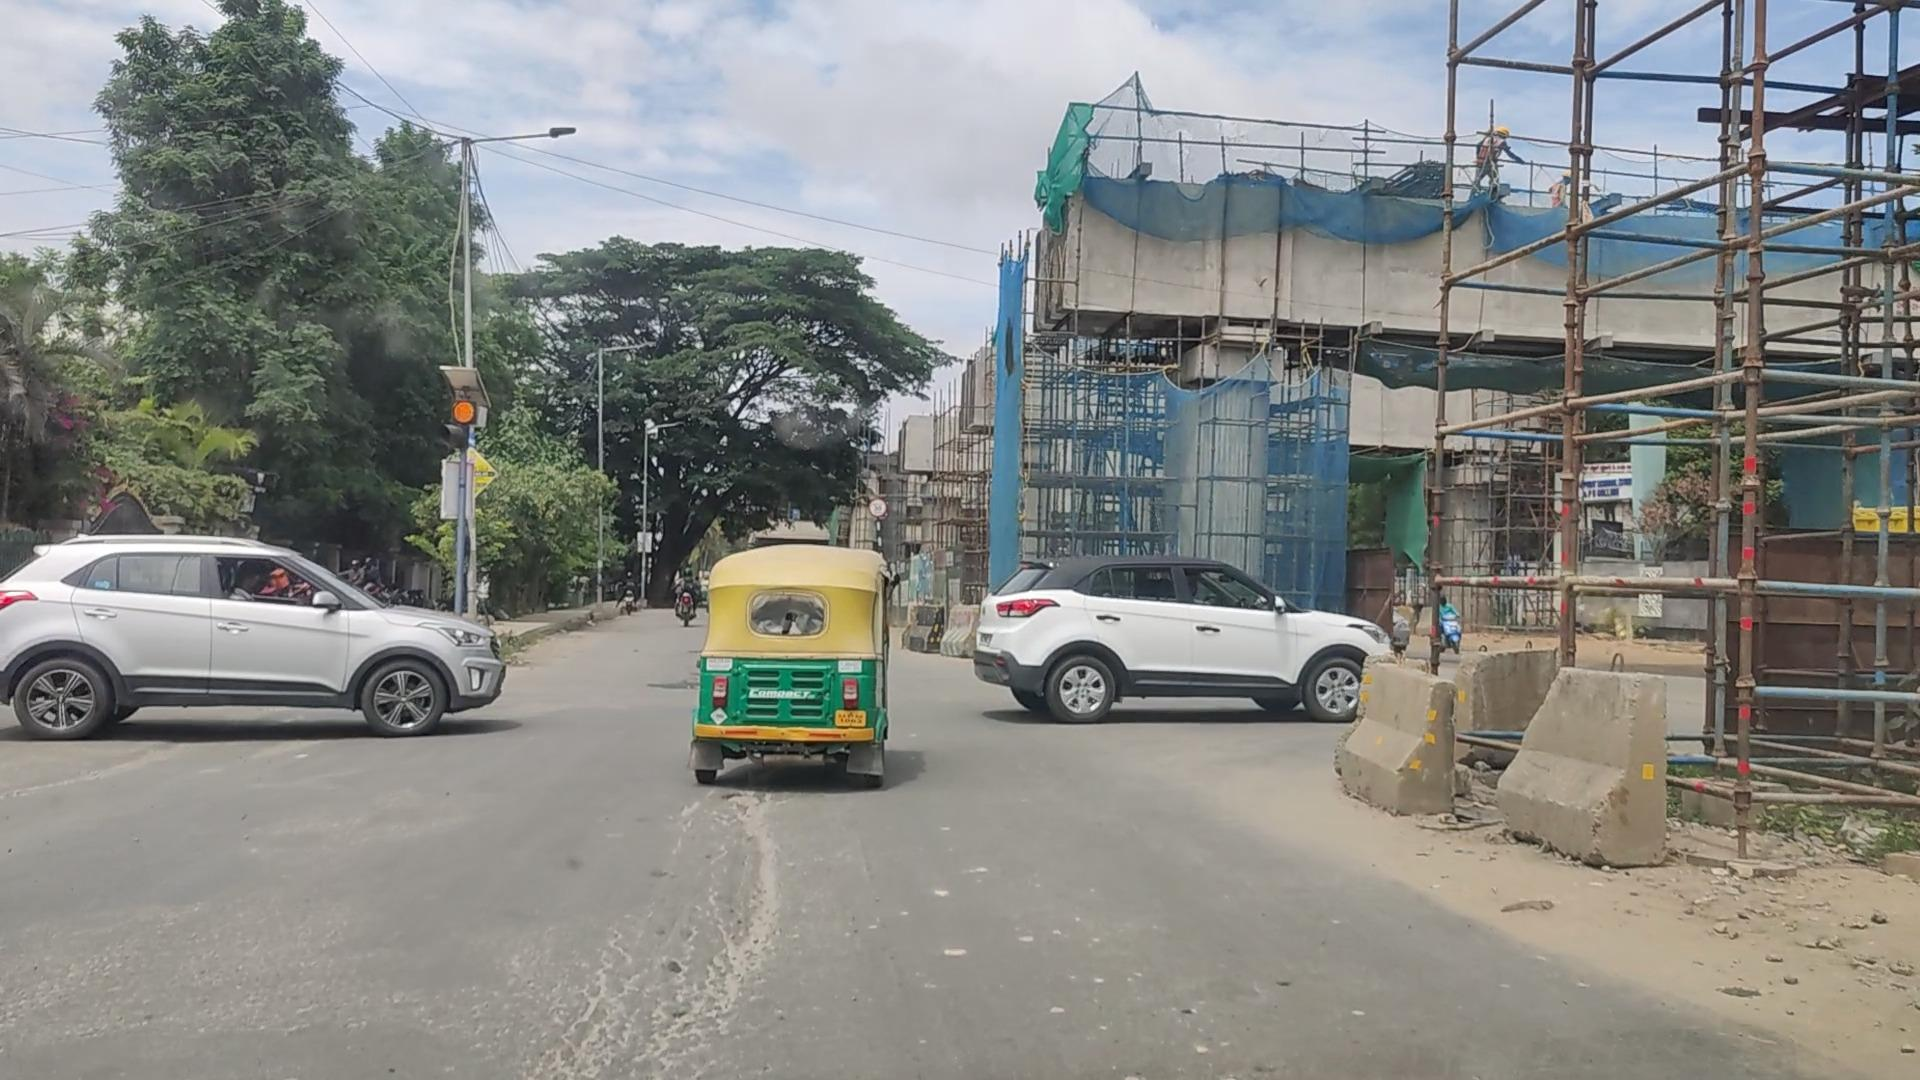LMV: (3, 545, 550, 727), (984, 564, 1377, 721), (704, 547, 887, 774)
RoadDamages: (576, 935, 787, 1080), (651, 798, 804, 916)
